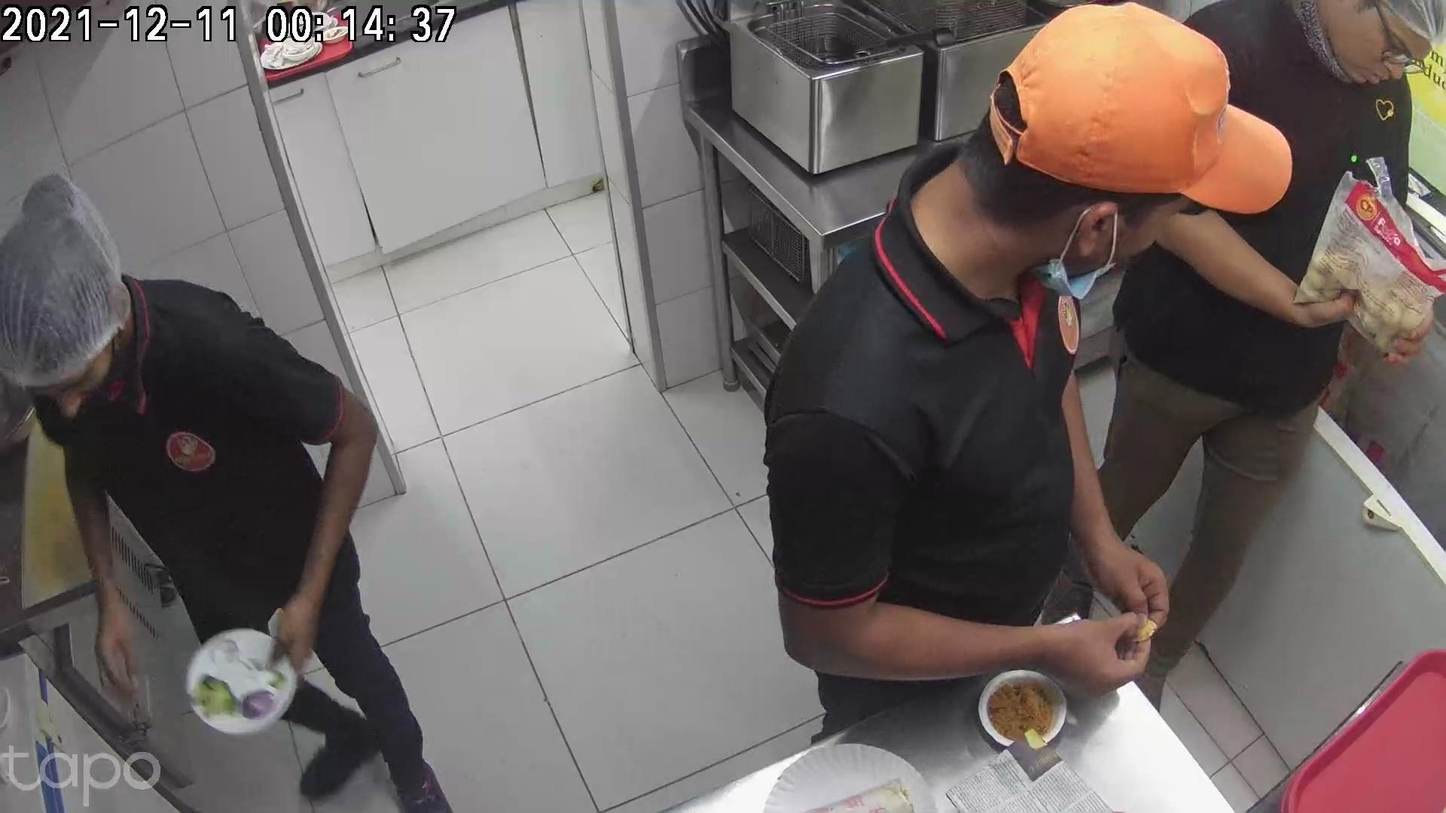gloves: (883, 623, 991, 745)
no_gloves: (1033, 587, 1118, 719)
